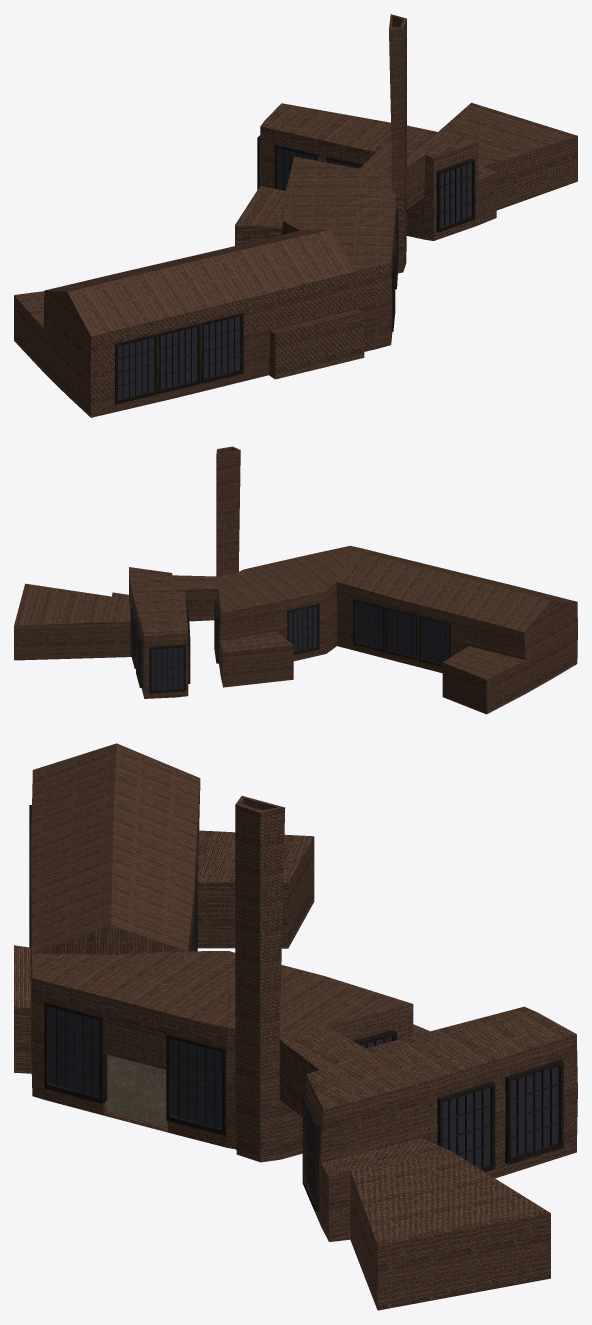
The model's file is Factory.fbx.
3 renders of one model, top to bottom at view 1: azimuth 30°, elevation 25°; view 2: azimuth 150°, elevation 25°; view 3: azimuth 270°, elevation 25°, orthographic. The views are drawn at different scales.
Visible parts, largest first — view 1: walls, roof, rest, Cube.001, Cube.003, Cube.004, Cube.002, Cube.016; view 2: walls, roof, rest, Cube.011, Cube.006, Cube.007, Cube.010, Cube.005, Cube.012; view 3: roof, rest, walls, Cube.008, Cube.009, Cube.012, Cube.013, floor, Cube.002.
Boxes of the visible parts, x1,y1,x2,y2 form: walls: (14,184,406,417); roof: (45,14,406,336); rest: (259,102,577,240); Cube.001: (114,334,157,404); Cube.003: (158,323,200,393); Cube.004: (201,313,243,383); Cube.002: (436,158,475,232); Cube.016: (274,144,318,190); walls: (217,564,577,714); roof: (216,446,576,631); rest: (14,567,217,698); Cube.011: (149,644,185,693); Cube.006: (385,606,417,660); Cube.007: (353,598,385,652); Cube.010: (287,603,319,655); Cube.005: (419,615,450,666); Cube.012: (136,627,142,687); roof: (31,743,412,1048); rest: (279,1006,577,1310); walls: (14,783,429,1162); Cube.008: (44,1001,107,1103); Cube.009: (166,1034,226,1135); Cube.012: (505,1059,563,1164); Cube.013: (437,1081,495,1171); floor: (106,1055,174,1134); Cube.002: (302,1096,320,1211).
Bounding box in the file's own units: 3101 × 1201 × 1742.
13 materials, 12 textured.
